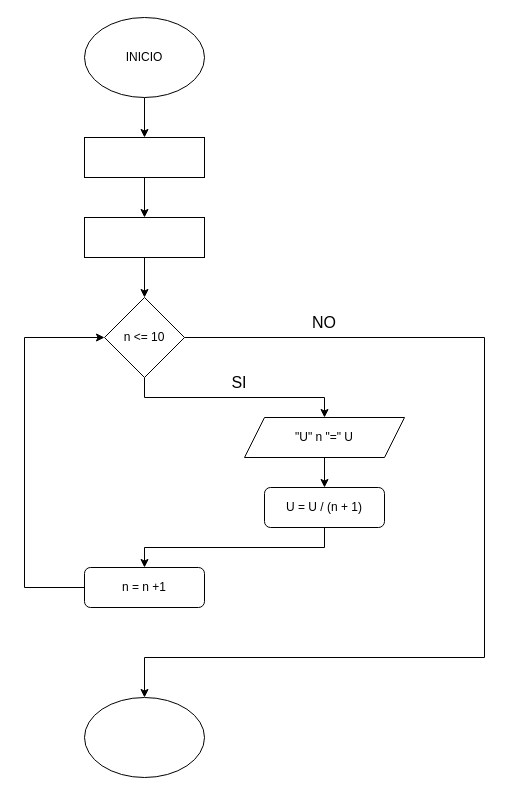
This 510x795 diagram has some shape labels left out. The centre of each missing label's shape, as x and y in pixels:
"FIN" goes at (x=144, y=737).
"float U = 1" goes at (x=144, y=157).
"int n = 0" goes at (x=144, y=237).
